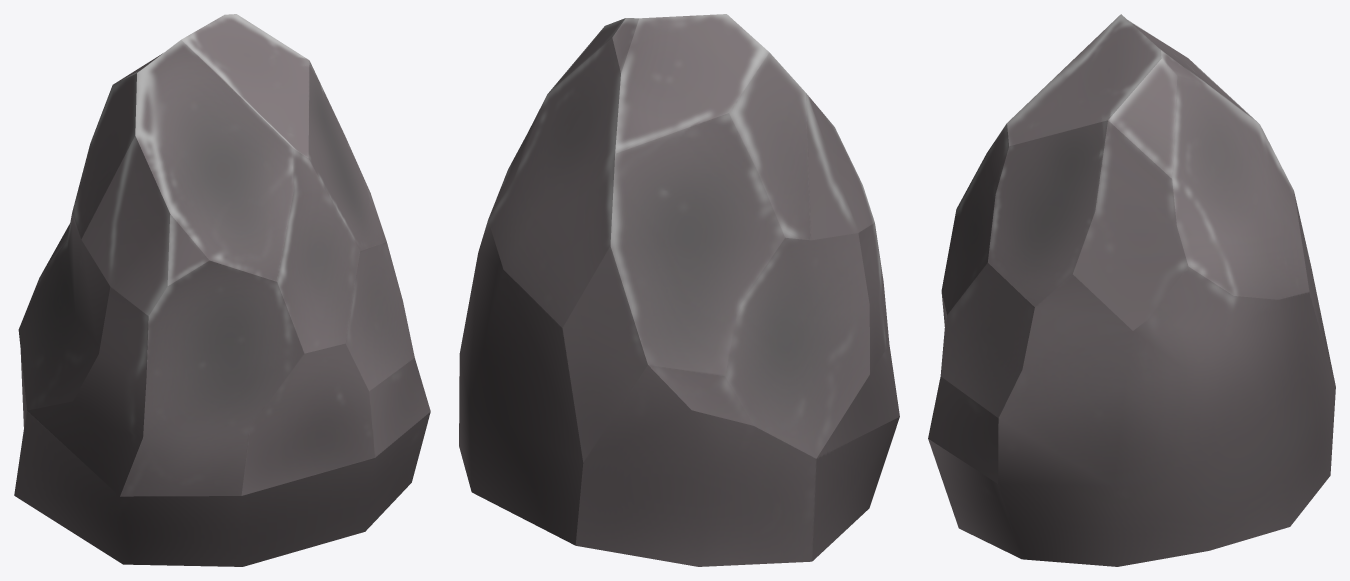
The model's file is ROK0110032.fbx.
3 views of the same model, side by side, from view 1: azimuth 30°, elevation 25°; view 2: azimuth 150°, elevation 25°; view 3: azimuth 270°, elevation 25° (orthographic). The views are drawn at different scales.
Visible parts, largest first — view 1: smROK0110032; view 2: smROK0110032; view 3: smROK0110032.
Part boxes in pixels (bbox=[...]): smROK0110032: bbox=[14, 14, 430, 566]; smROK0110032: bbox=[459, 14, 899, 566]; smROK0110032: bbox=[928, 14, 1335, 566].
Size of the model in its own units: 80.83 by 106 by 82.25.
Materials: 1 (1 with a texture image).
